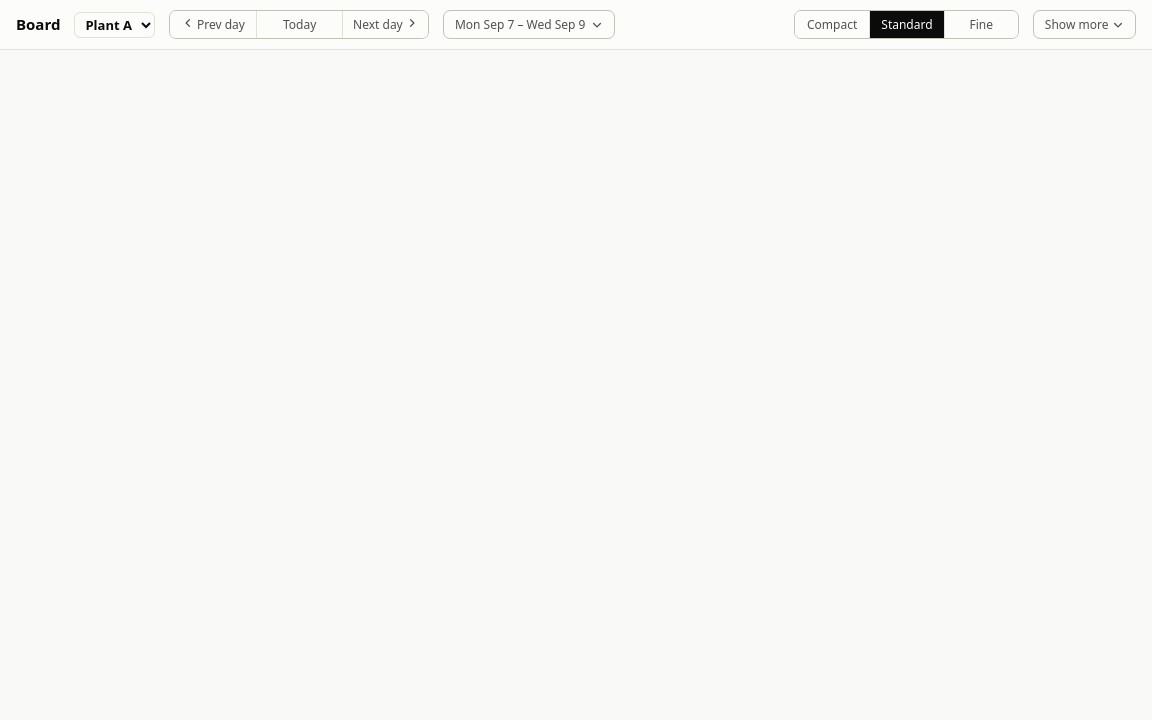
Test case: CW10: the Copy week button on the board is offered by the server's own answer › is offered when app_is_admin_for says yes for THIS plant, and opens the dialog for it
Click the button "Show more": [1084, 25] box [1033,10,1136,39]
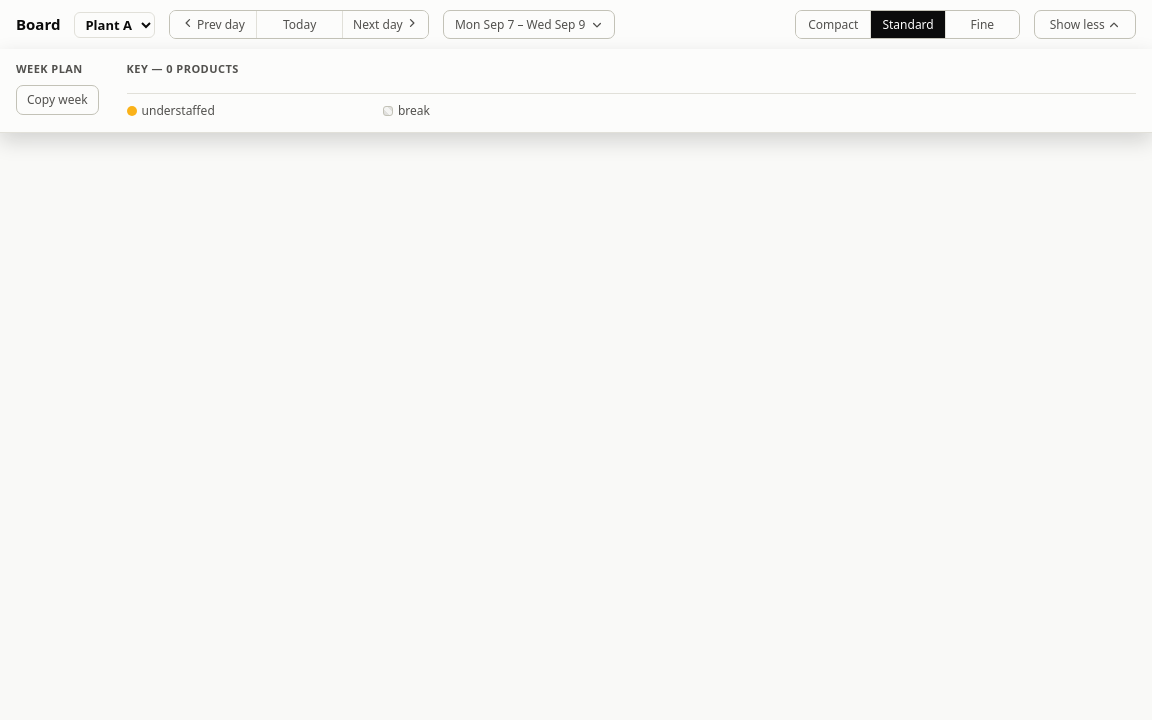
Click the button "Copy week": [57, 100] box [16,85,99,115]
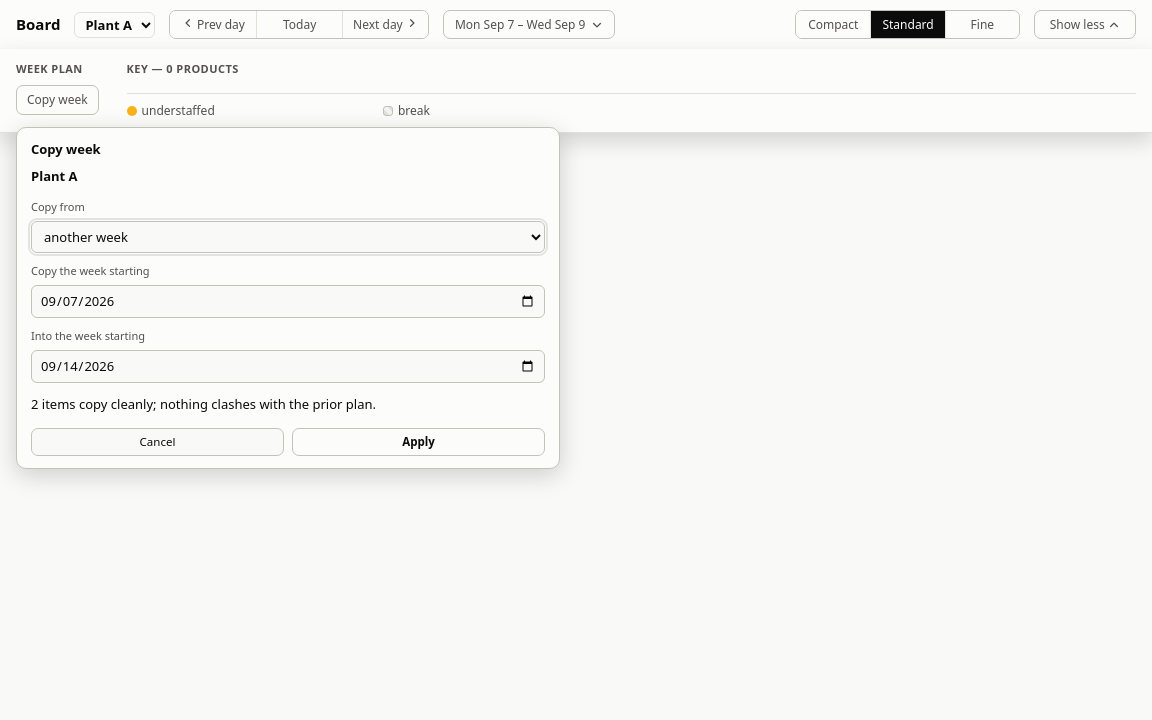
Expected: the dialog "Copy week" is shown, [16,127,560,469]
Expected: the text "Plant A" is shown, [31,167,78,185]
